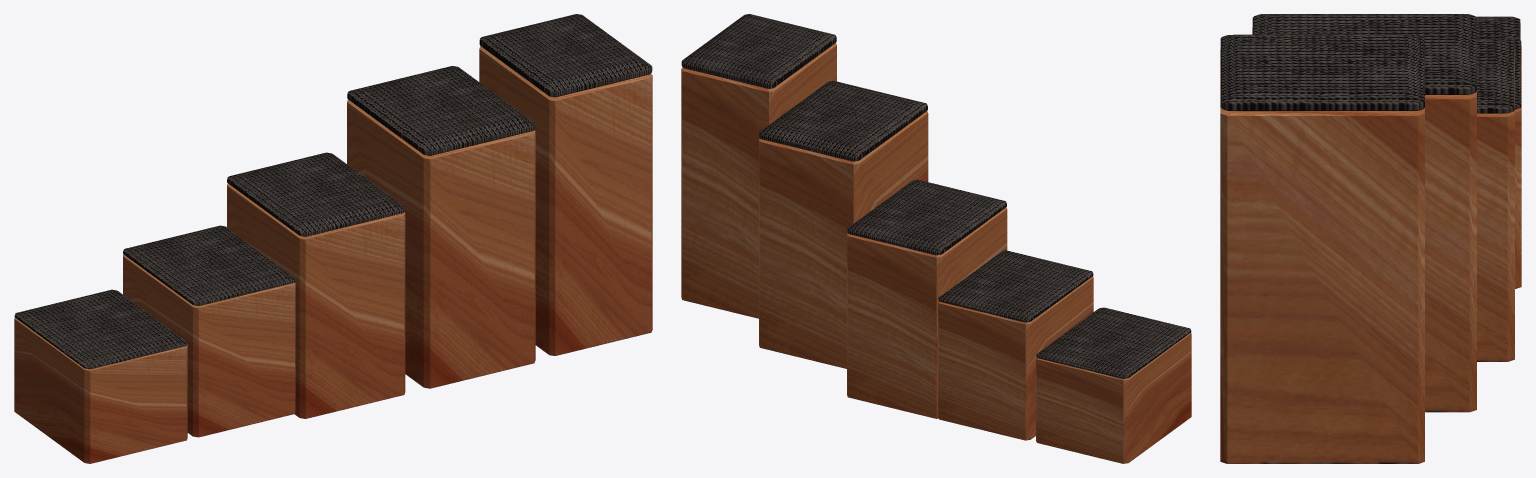
File: MesasApiladas.obj
The picture shows the model from 3 angles, left to right: view 1: azimuth 30°, elevation 25°; view 2: azimuth 150°, elevation 25°; view 3: azimuth 270°, elevation 25°; orthographic projection. The views are drawn at different scales.
Parts seen in each view (by area): view 1: Cube.004_Cube.005, Cube.002_Cube.003, Cube.003_Cube.004, Cube.001_Cube.002, Cube; view 2: Cube.004_Cube.005, Cube.002_Cube.003, Cube.003_Cube.004, Cube.001_Cube.002, Cube; view 3: Cube.002_Cube.003, Cube.004_Cube.005, Cube.003_Cube.004, Cube.001_Cube.002, Cube.
Boxes of the visible parts, x1,y1,x2,y2 form: Cube.004_Cube.005: (347, 66, 535, 388); Cube.002_Cube.003: (479, 14, 652, 355); Cube.003_Cube.004: (227, 152, 405, 418); Cube.001_Cube.002: (123, 225, 295, 437); Cube: (14, 289, 187, 463); Cube.004_Cube.005: (759, 81, 928, 368); Cube.002_Cube.003: (681, 14, 836, 318); Cube.003_Cube.004: (847, 179, 1007, 418); Cube.001_Cube.002: (938, 250, 1093, 440); Cube: (1036, 307, 1191, 463); Cube.002_Cube.003: (1220, 34, 1424, 463); Cube.004_Cube.005: (1252, 14, 1476, 412); Cube.003_Cube.004: (1477, 38, 1514, 361); Cube.001_Cube.002: (1477, 38, 1521, 288); Cube: (1476, 16, 1520, 40).
Size of the model in its own units: 4.56 by 2.45 by 1.63.
